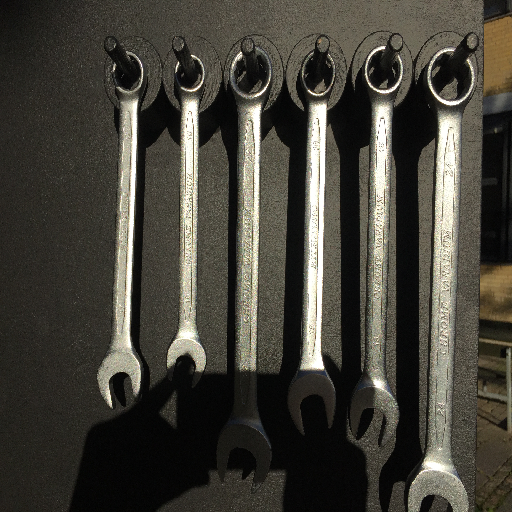bottom: (215, 420, 272, 493), (284, 365, 338, 437), (403, 458, 473, 512), (348, 377, 400, 449), (94, 347, 145, 409), (165, 336, 209, 391)
top: (424, 46, 476, 113), (228, 46, 275, 106), (361, 44, 405, 101), (298, 48, 338, 101), (111, 50, 149, 101), (173, 54, 207, 96)
